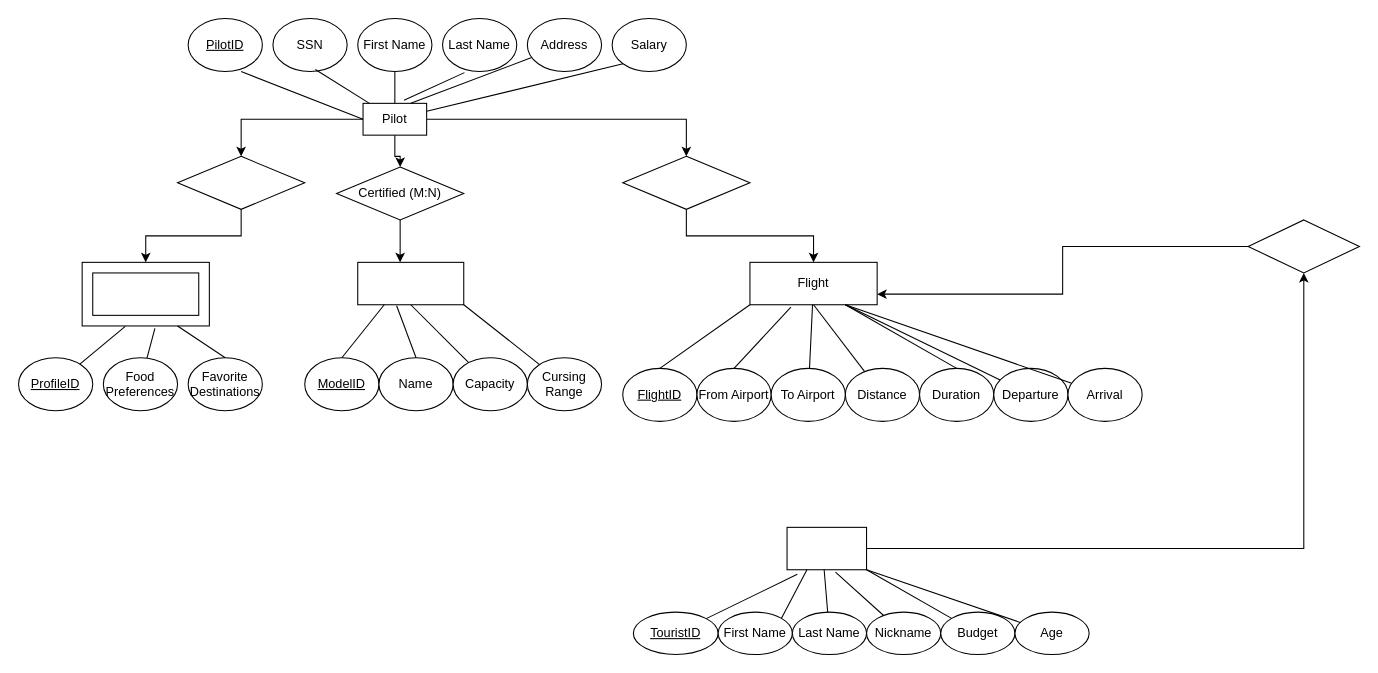
This 1378x673 diagram has some shape labels left out. The centre of each missing label's shape, as x and y in pixels:
"Aircraft Model" belongs at point (410, 283).
"Book(M:N)" belongs at point (1303, 246).
"Has Profile (1:1)" belongs at point (240, 182).
"Operate (M:N)" belongs at point (686, 182).
"Pilot Profile" belongs at point (145, 293).
"Tourist" belongs at point (826, 548).
